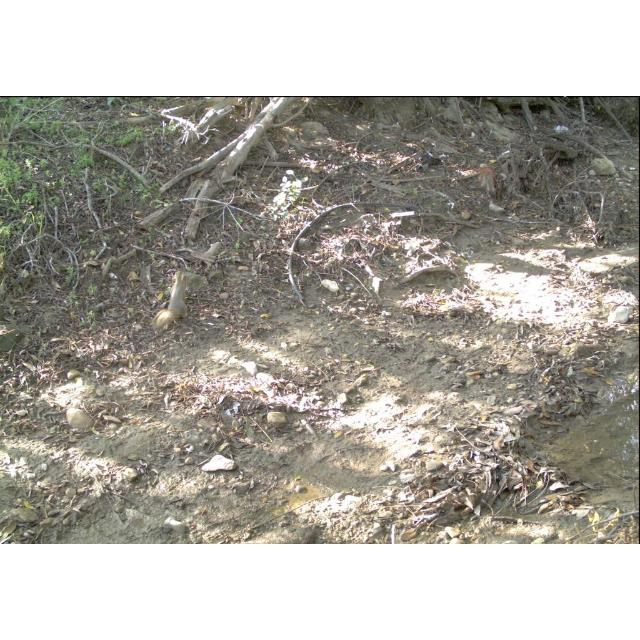animals: (150, 269, 193, 329)
